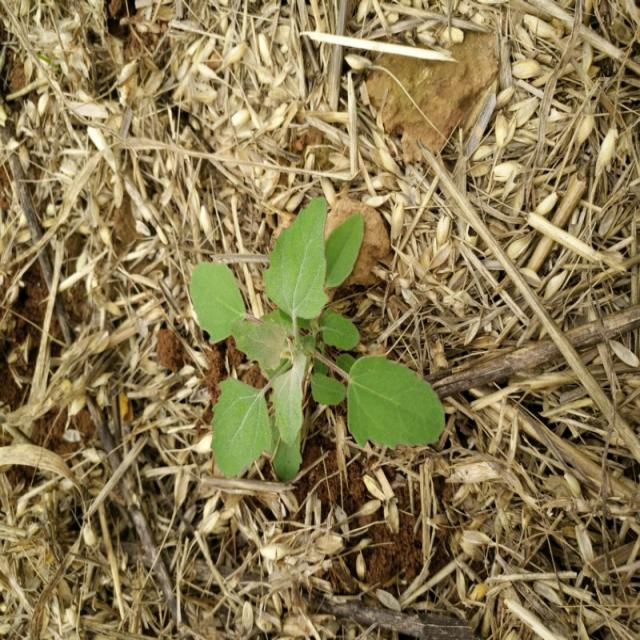ca: (191, 195, 446, 485)
